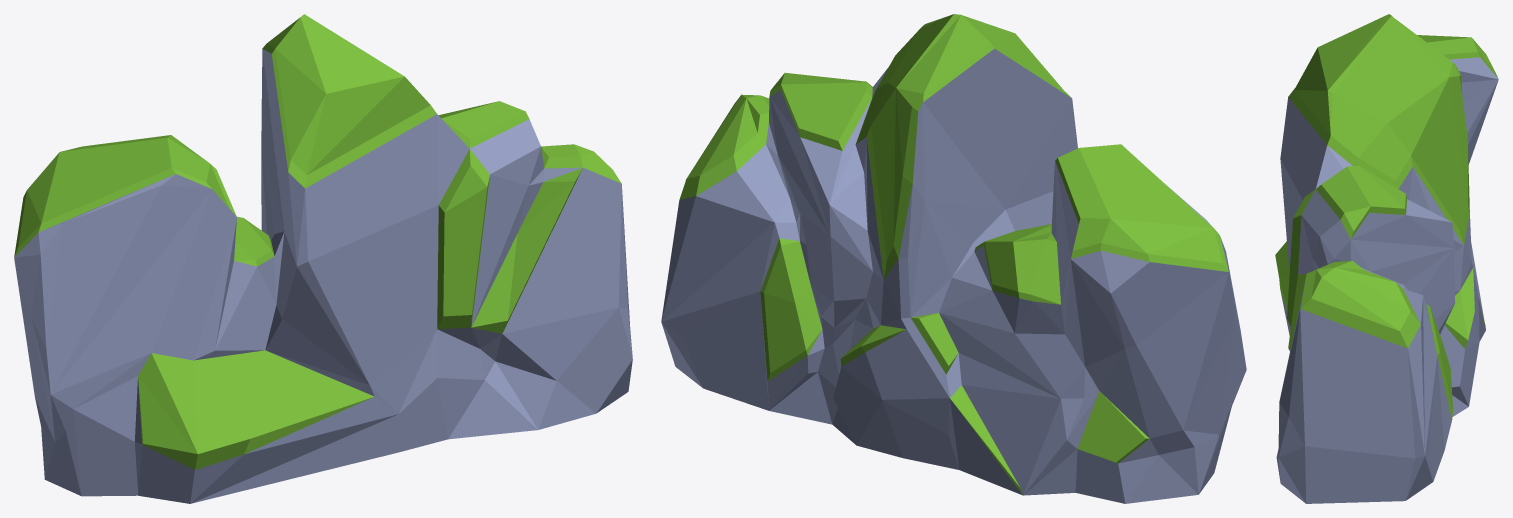
File: Rock_Formation_3_1.fbx
3 renders of one model, left to right at view 1: azimuth 30°, elevation 25°; view 2: azimuth 150°, elevation 25°; view 3: azimuth 270°, elevation 25°, orthographic. The views are drawn at different scales.
Visible parts, largest first — view 1: Rock_Formation_3_1; view 2: Rock_Formation_3_1; view 3: Rock_Formation_3_1.
Part boxes in pixels (x1,y1,x2,y2): Rock_Formation_3_1: [14, 14, 632, 503]; Rock_Formation_3_1: [661, 14, 1246, 503]; Rock_Formation_3_1: [1275, 14, 1498, 503].
Size of the model in its own units: 17.19 by 12.08 by 6.65.
